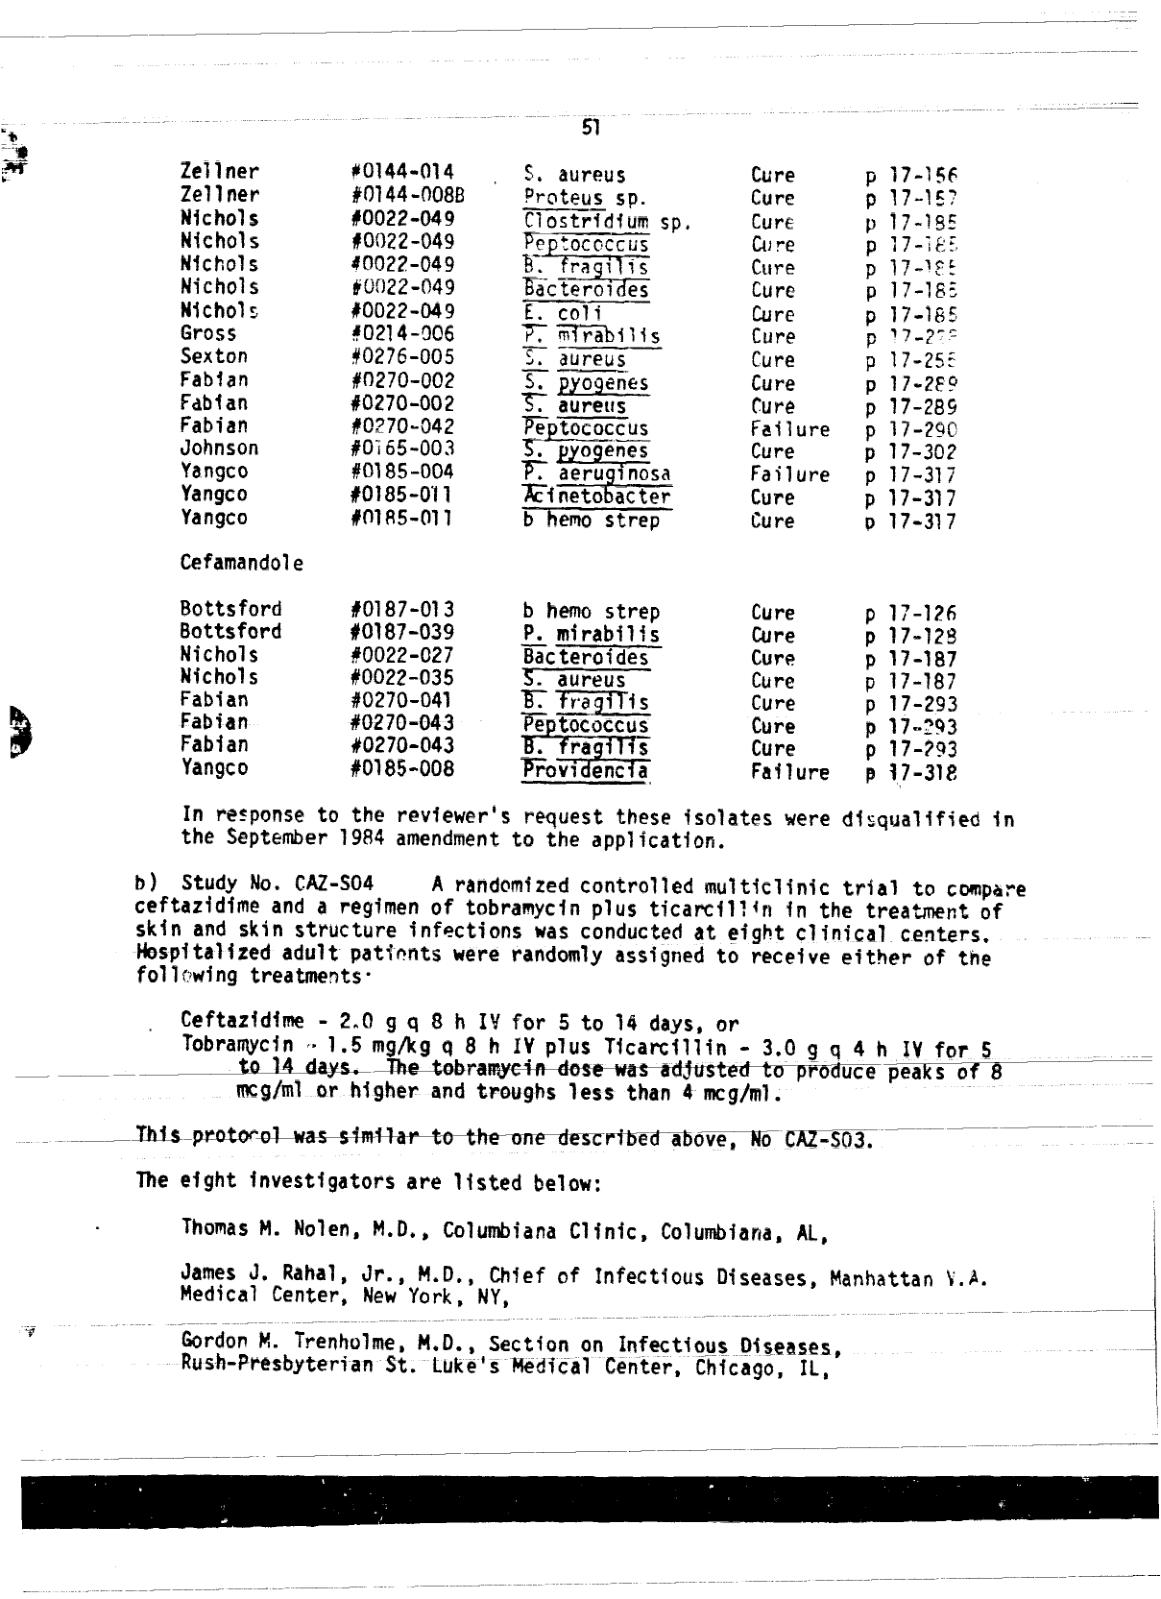nolines: (175, 156, 960, 785)
